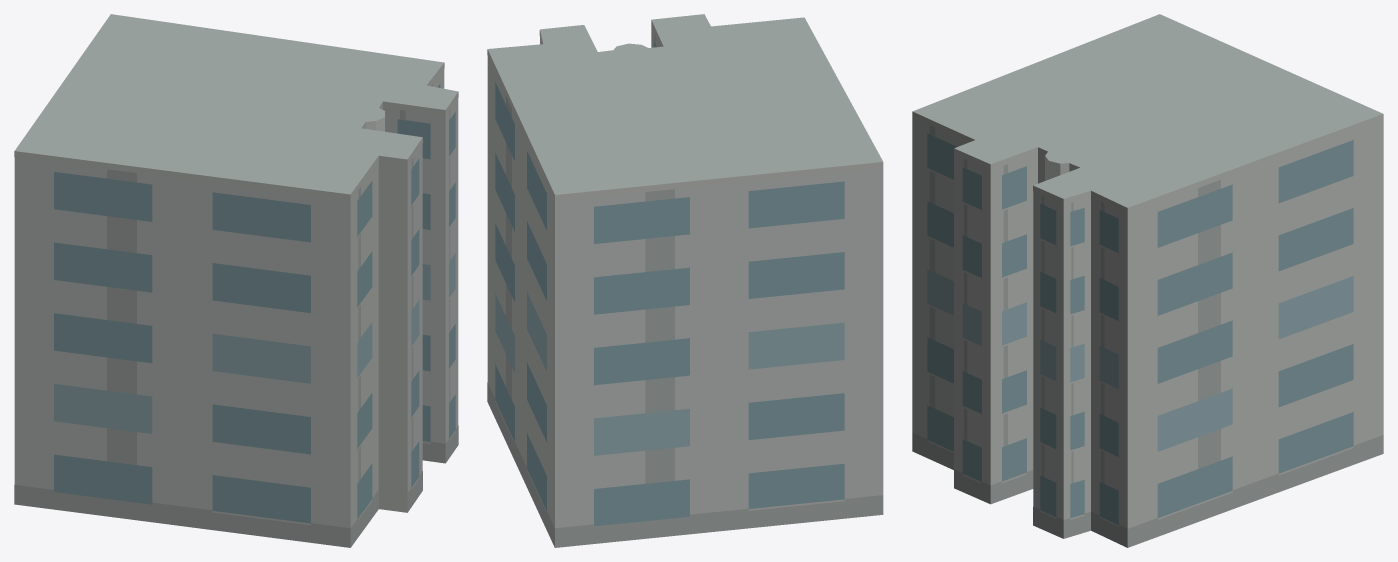
File: survey-upis-32865702.glb
3 views of the same model, side by side, from view 1: azimuth 30°, elevation 25°; view 2: azimuth 150°, elevation 25°; view 3: azimuth 270°, elevation 25° (orthographic). The views are drawn at different scales.
Visible parts, largest first — view 1: survey-upis-32865702.tmp; view 2: survey-upis-32865702.tmp; view 3: survey-upis-32865702.tmp.
Part boxes in pixels (bbox=[...]): survey-upis-32865702.tmp: bbox=[14, 14, 458, 547]; survey-upis-32865702.tmp: bbox=[487, 14, 883, 547]; survey-upis-32865702.tmp: bbox=[912, 14, 1383, 547].
Size of the model in its own units: 17.02 by 13.9 by 17.46.
